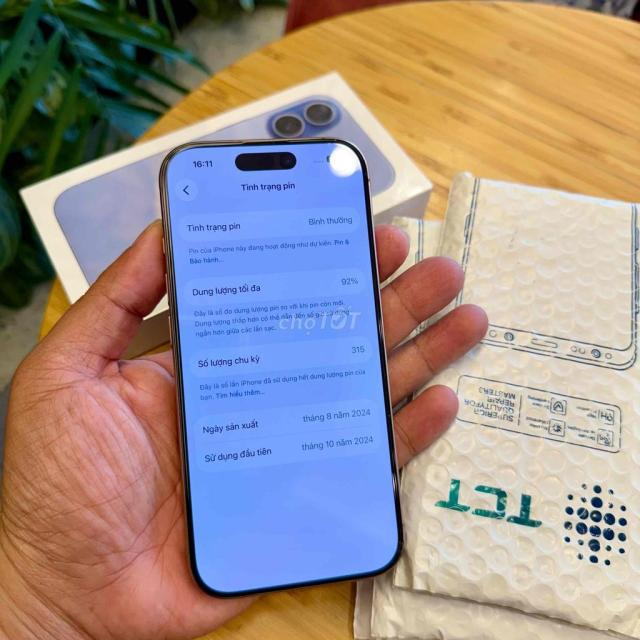gen_16: (147, 121, 416, 602)
